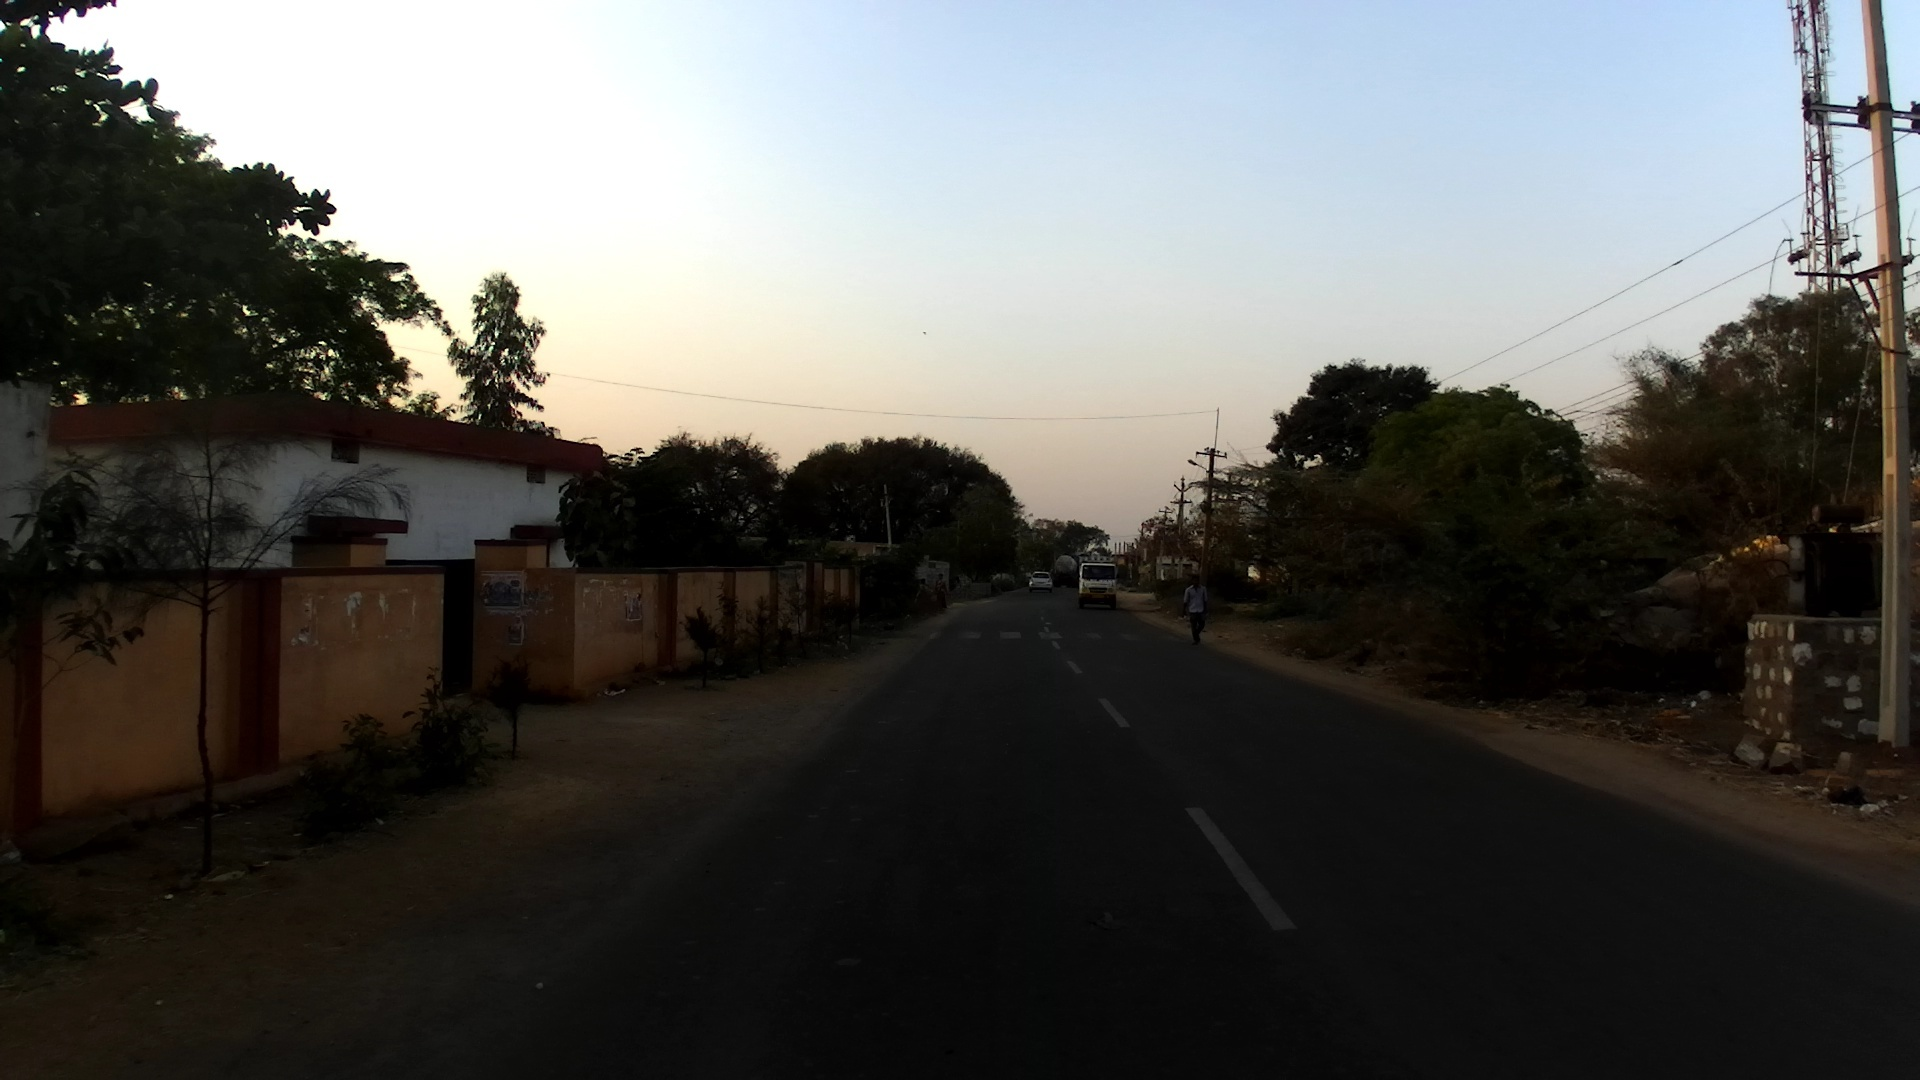car: (1025, 569, 1053, 595)
person: (1181, 571, 1212, 647), (932, 571, 947, 619)
truck: (1077, 557, 1119, 611), (1052, 551, 1086, 593)
